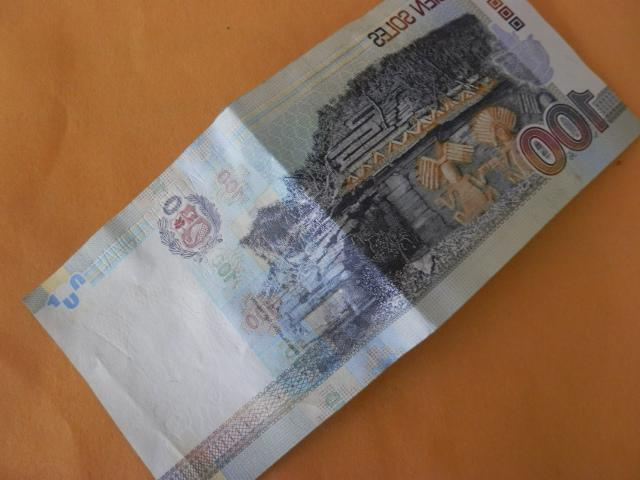B100: (20, 1, 639, 480)
